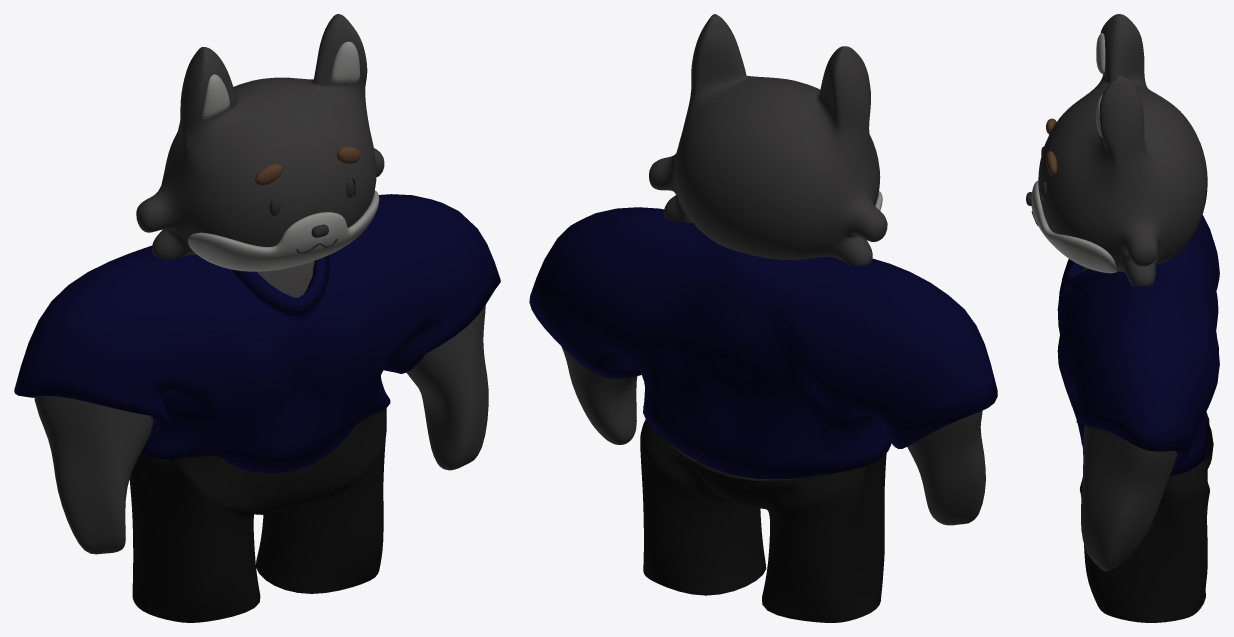
Rendered from Kara.fbx.
3 views of the same model, side by side, from view 1: azimuth 30°, elevation 25°; view 2: azimuth 150°, elevation 25°; view 3: azimuth 270°, elevation 25° (orthographic). The views are drawn at different scales.
Visible parts, largest first — view 1: Cube.009, Cube.010, Cube, Cube.001, Cube.002, Cube.003, Cube.006; view 2: Cube.009, Cube, Cube.010, Cube.001; view 3: Cube.009, Cube, Cube.010, Cube.001, Cube.002, Cube.003, Cube.006.
Part boxes in pixels (box(x1,y1,x2,y2)): Cube.009: box(14, 194, 500, 473); Cube.010: box(129, 408, 386, 622); Cube: box(136, 14, 384, 259); Cube.001: box(34, 261, 488, 554); Cube.002: box(188, 190, 379, 271); Cube.003: box(202, 41, 359, 118); Cube.006: box(255, 146, 360, 185); Cube.009: box(529, 207, 997, 479); Cube: box(649, 14, 887, 266); Cube.010: box(640, 419, 886, 622); Cube.001: box(561, 346, 985, 525); Cube.009: box(1057, 215, 1219, 476); Cube: box(1038, 14, 1207, 286); Cube.010: box(1079, 412, 1213, 622); Cube.001: box(1081, 267, 1203, 571); Cube.002: box(1031, 180, 1117, 273); Cube.003: box(1096, 33, 1105, 137); Cube.006: box(1046, 118, 1057, 175).
Size of the model in its own units: 254 by 285 by 95.21.
